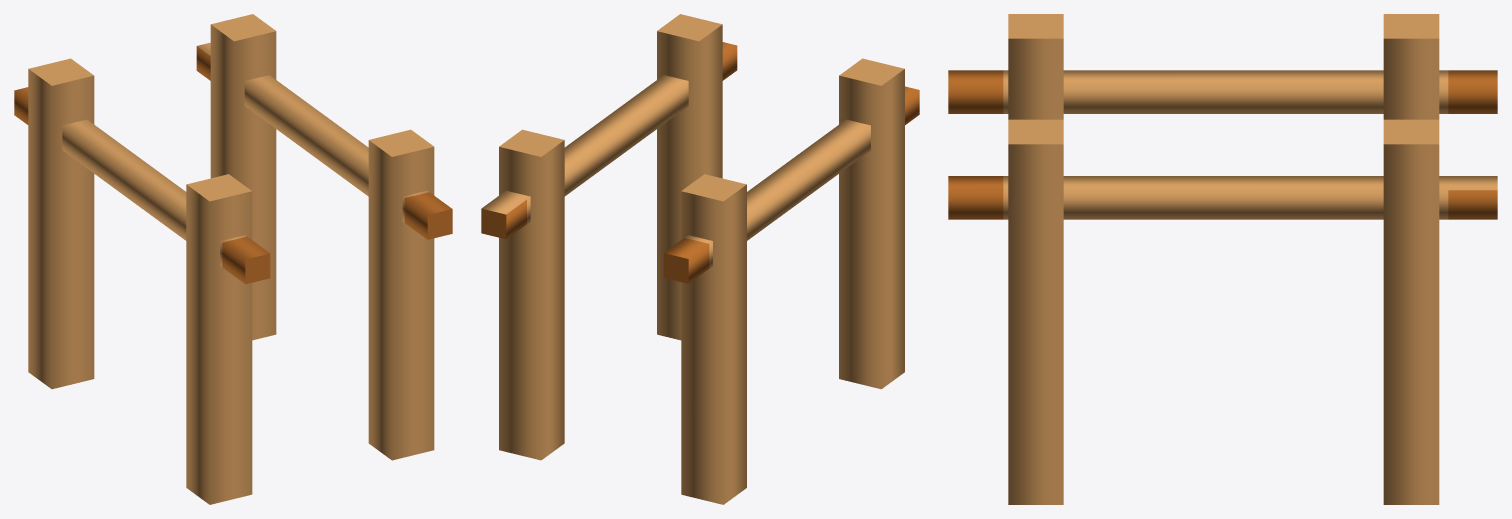
Rendered from SM_Bars2.fbx.
3 renders of one model, left to right at view 1: azimuth 30°, elevation 25°; view 2: azimuth 150°, elevation 25°; view 3: azimuth 270°, elevation 25°, orthographic. The views are drawn at different scales.
Visible parts, largest first — view 1: SM_Bars2; view 2: SM_Bars2; view 3: SM_Bars2.
Boxes of the visible parts, box(x1,y1,x2,y2) form: SM_Bars2: box(14, 14, 452, 504); SM_Bars2: box(481, 14, 919, 504); SM_Bars2: box(948, 14, 1497, 504).
Size of the model in its own units: 136 by 175 by 241.
